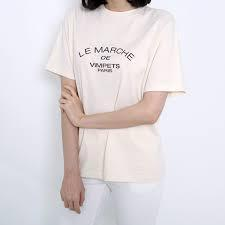Tshirt: (41, 5, 188, 184)
